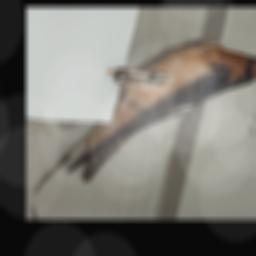Swallow: (37, 33, 256, 214)
